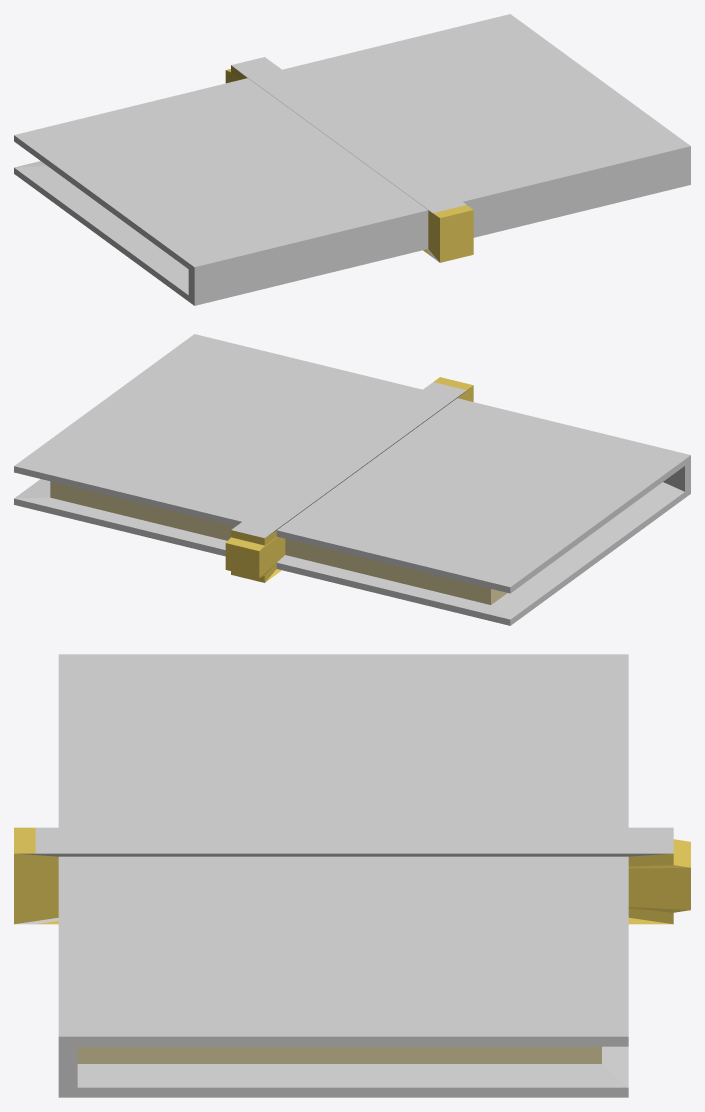
File: BukuDiary.fbx
3 renders of one model, top to bottom at view 1: azimuth 30°, elevation 25°; view 2: azimuth 150°, elevation 25°; view 3: azimuth 270°, elevation 25°, orthographic. The views are drawn at different scales.
Visible parts, largest first — view 1: Buku catatan; view 2: Buku catatan; view 3: Buku catatan.
Boxes of the visible parts, x1,y1,x2,y2 form: Buku catatan: (14, 14, 690, 305); Buku catatan: (14, 334, 690, 625); Buku catatan: (14, 654, 690, 1097).
Bounding box in the file's own units: 109 × 9.41 × 81.69.
